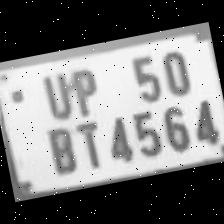0: (152, 43, 194, 100)
4: (182, 91, 222, 150), (98, 108, 136, 166)
5: (124, 100, 164, 162), (124, 49, 164, 106)
6: (155, 100, 194, 158)
B: (40, 121, 80, 178)
P: (62, 62, 104, 119)
T: (69, 114, 108, 172)
U: (34, 66, 75, 122)
